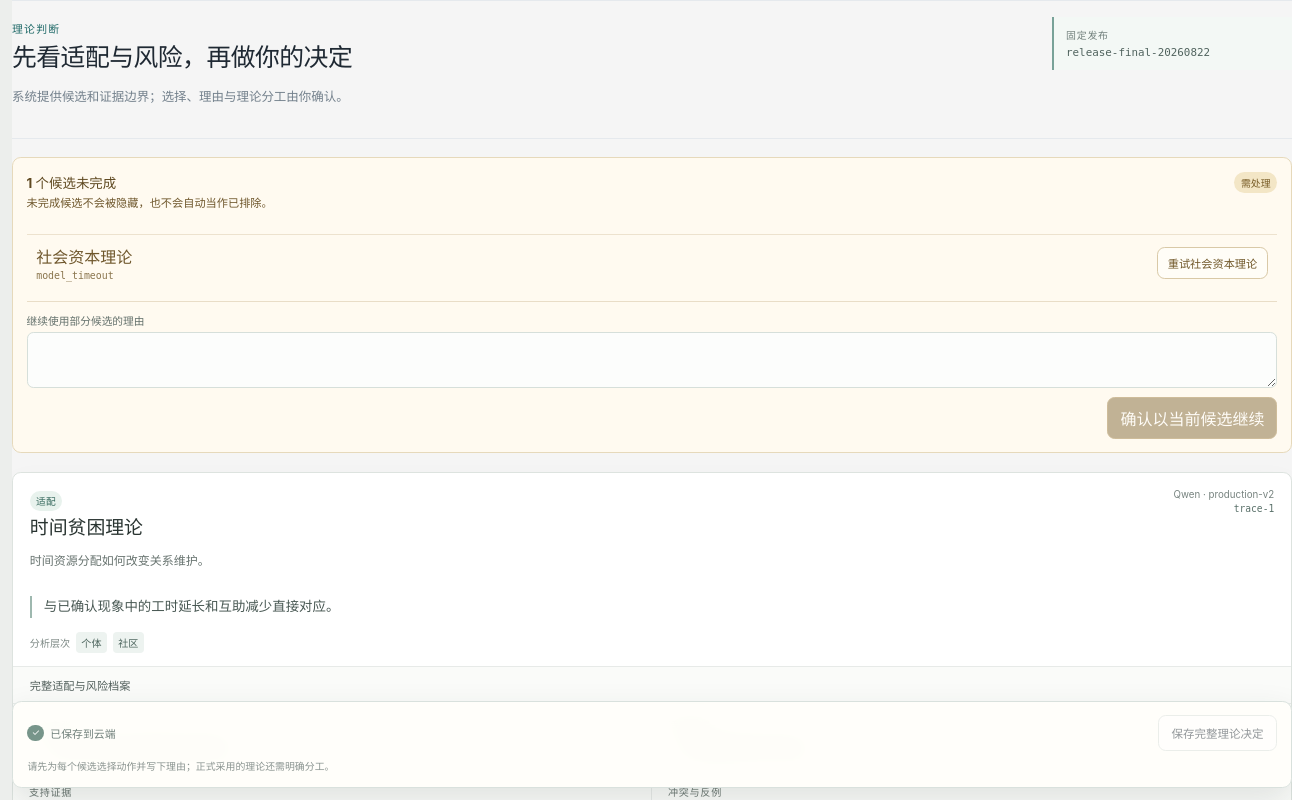
Test case: M4TheoryJudgment › keeps partial failure explicit, retries a failed candidate, and requires the user acknowledgement reason
The width and height of the screenshot is (1292, 800).
Expected: the message named "候选判断部分失败" shows "1 个候选未完成", [12,157,1291,453]
Expected: the button "重试社会资本理论" is enabled, [1157,247,1268,279]
In the text box labelled "继续使用部分候选的理由": coordinates (652, 360) [27,332,1277,388], type "已了解未完成候选的风险，先用已有证据继续。"
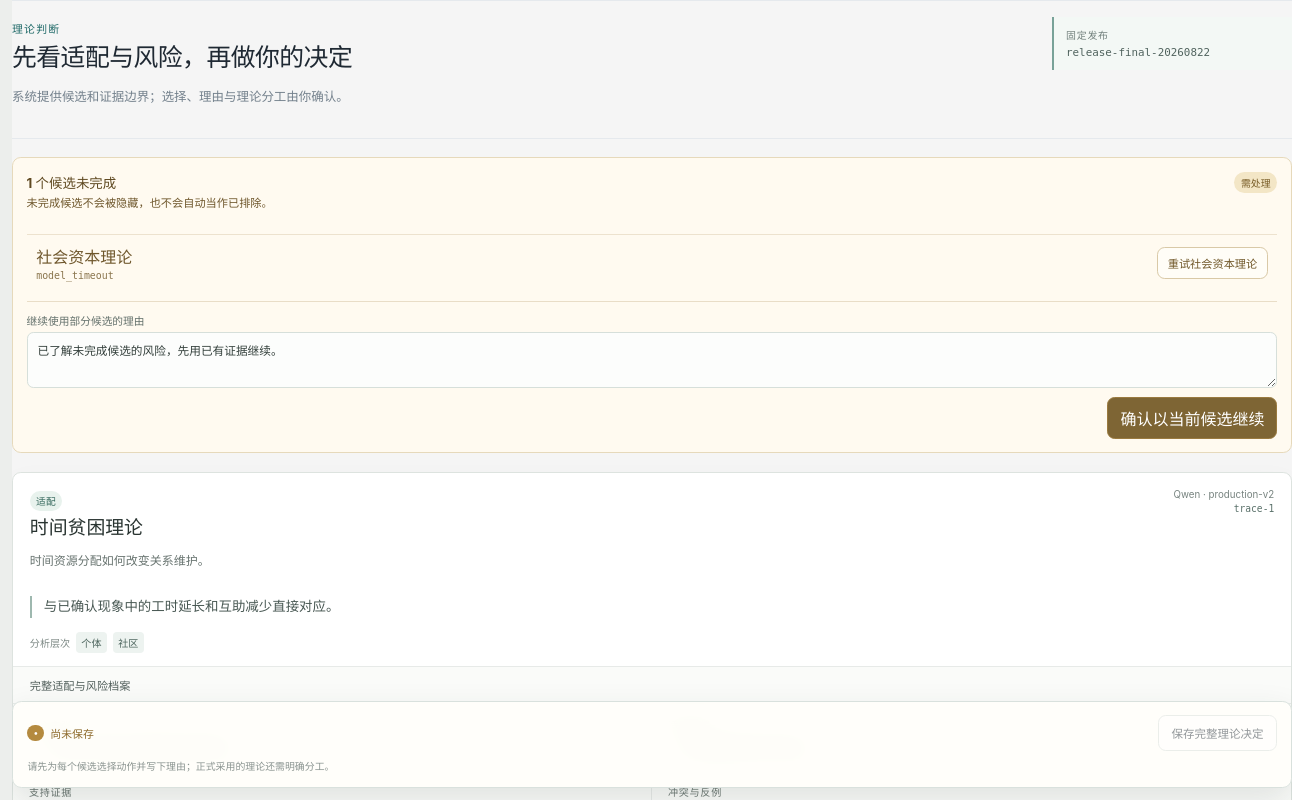
Expected: the button "确认以当前候选继续" is enabled, [1107,397,1277,439]
Click the button "重试社会资本理论": coordinates (1212, 263) [1157,247,1268,279]
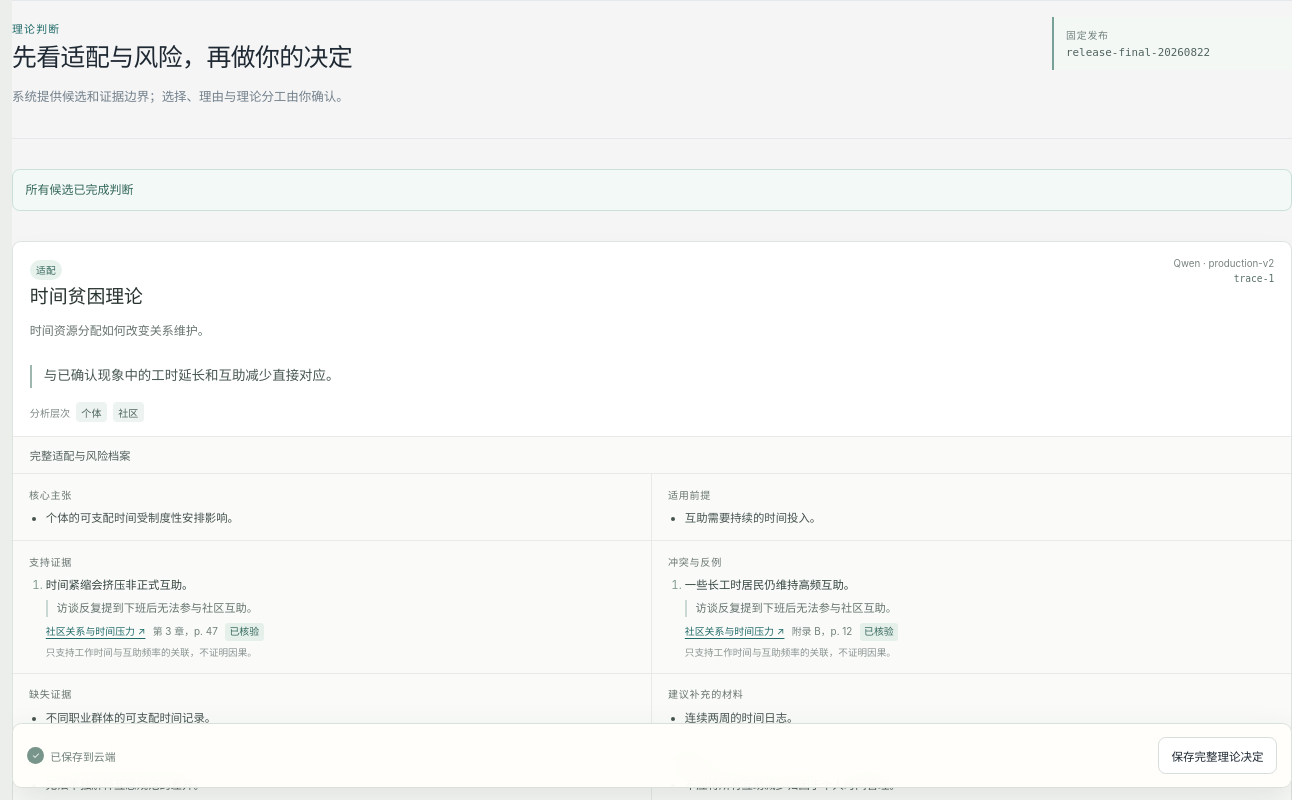
Expected: the text "所有候选已完成判断" is shown, [12,169,1291,211]
